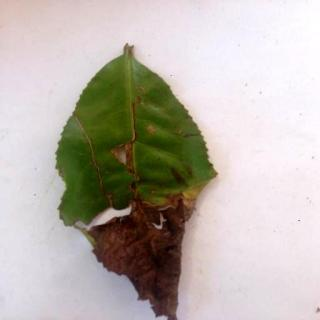Brown Blight: (56, 43, 221, 320)
